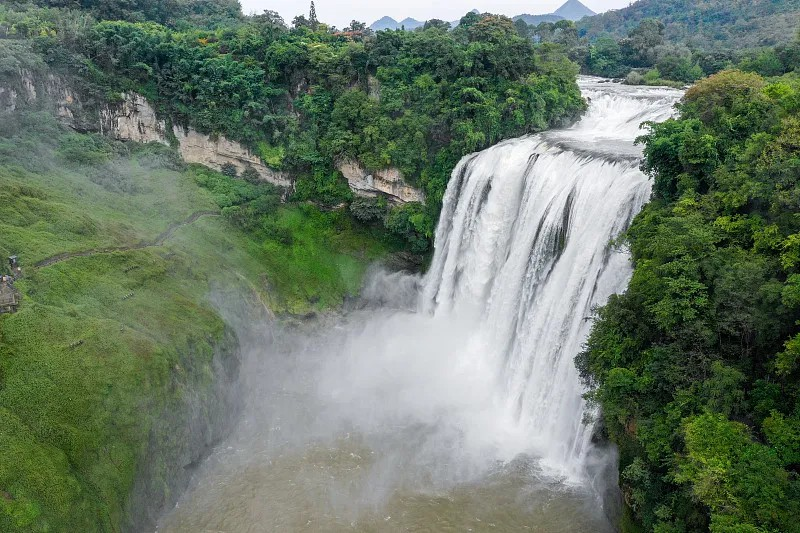Huangguoshu: (421, 84, 683, 485)
